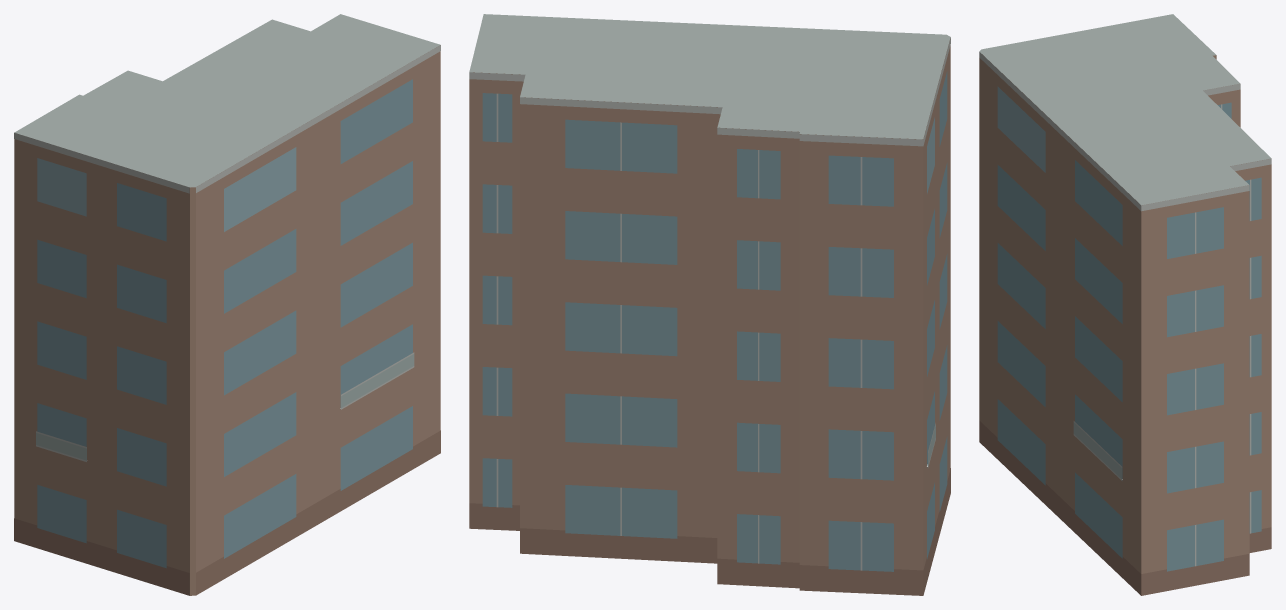
The model's file is survey-upis-33011012.glb.
3 views of the same model, side by side, from view 1: azimuth 30°, elevation 25°; view 2: azimuth 150°, elevation 25°; view 3: azimuth 270°, elevation 25° (orthographic). The views are drawn at different scales.
Visible parts, largest first — view 1: survey-upis-33011012.tmp; view 2: survey-upis-33011012.tmp; view 3: survey-upis-33011012.tmp.
Boxes of the visible parts, left/top/right/bottom form: survey-upis-33011012.tmp: left=14, top=14, right=440, bottom=595; survey-upis-33011012.tmp: left=469, top=14, right=950, bottom=595; survey-upis-33011012.tmp: left=979, top=14, right=1271, bottom=595.
Size of the model in its own units: 16.82 by 16 by 10.86.
